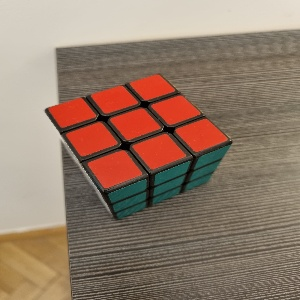cube: (44, 74, 234, 221)
